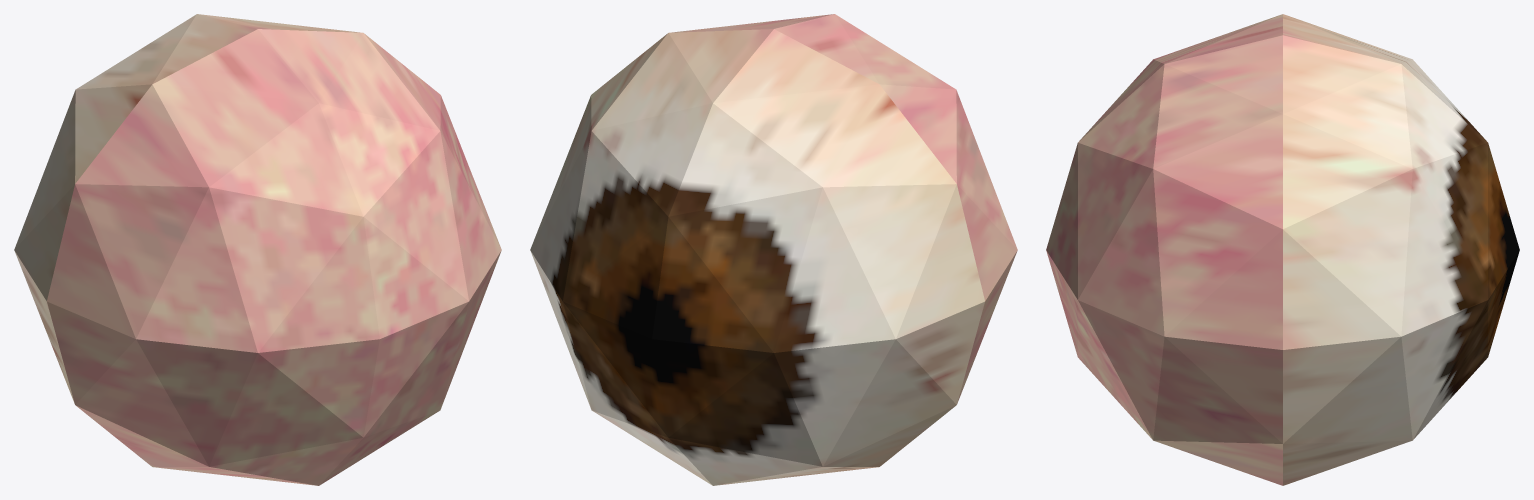
File: PipEye.FBX
The picture shows the model from 3 angles, left to right: view 1: azimuth 30°, elevation 25°; view 2: azimuth 150°, elevation 25°; view 3: azimuth 270°, elevation 25°; orthographic projection. The views are drawn at different scales.
Parts seen in each view (by area): view 1: GeoSphere01; view 2: GeoSphere01; view 3: GeoSphere01.
Boxes of the visible parts, box(x1,y1,x2,y2) form: GeoSphere01: box(14, 14, 501, 485); GeoSphere01: box(530, 14, 1017, 485); GeoSphere01: box(1046, 14, 1519, 485).
Bounding box in the file's own units: 66.95 × 66.95 × 66.95.
Materials: 1 (1 with a texture image).
